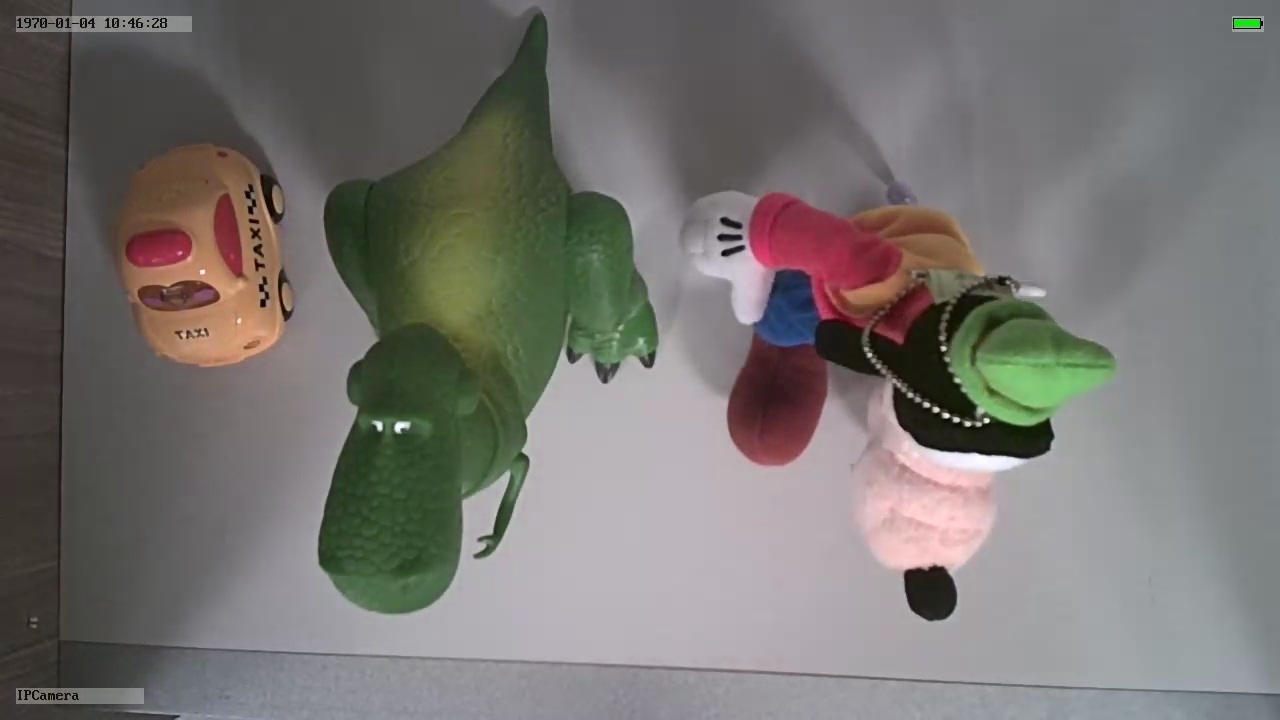car: (112, 141, 298, 371)
goofy: (679, 185, 1122, 624)
rex: (320, 87, 660, 617)
